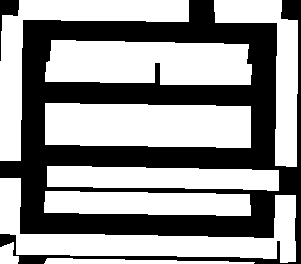parkingspot: (16, 234, 276, 258), (47, 166, 278, 190), (44, 191, 250, 215), (45, 103, 250, 127), (45, 124, 250, 147), (50, 40, 248, 63), (18, 0, 188, 21), (275, 19, 297, 166), (0, 15, 22, 160), (45, 61, 154, 82), (160, 62, 251, 84), (214, 0, 281, 22), (43, 258, 254, 264), (0, 178, 20, 234), (274, 195, 295, 240), (0, 242, 18, 264), (280, 241, 295, 262)
